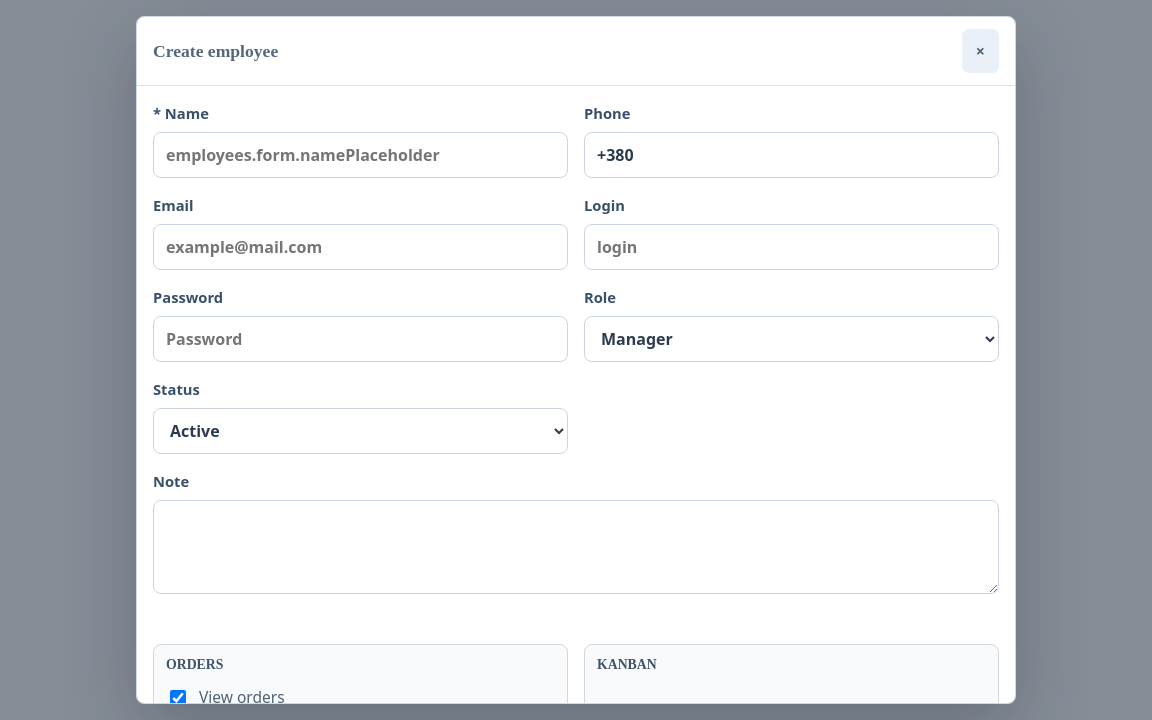
Test: EmployeeFormModal › activates orders.chat for master defaults
Select "Master" in the dropdown labelled "Role". click: (792,339)
box: [584,316,999,362]
(page scrolled)
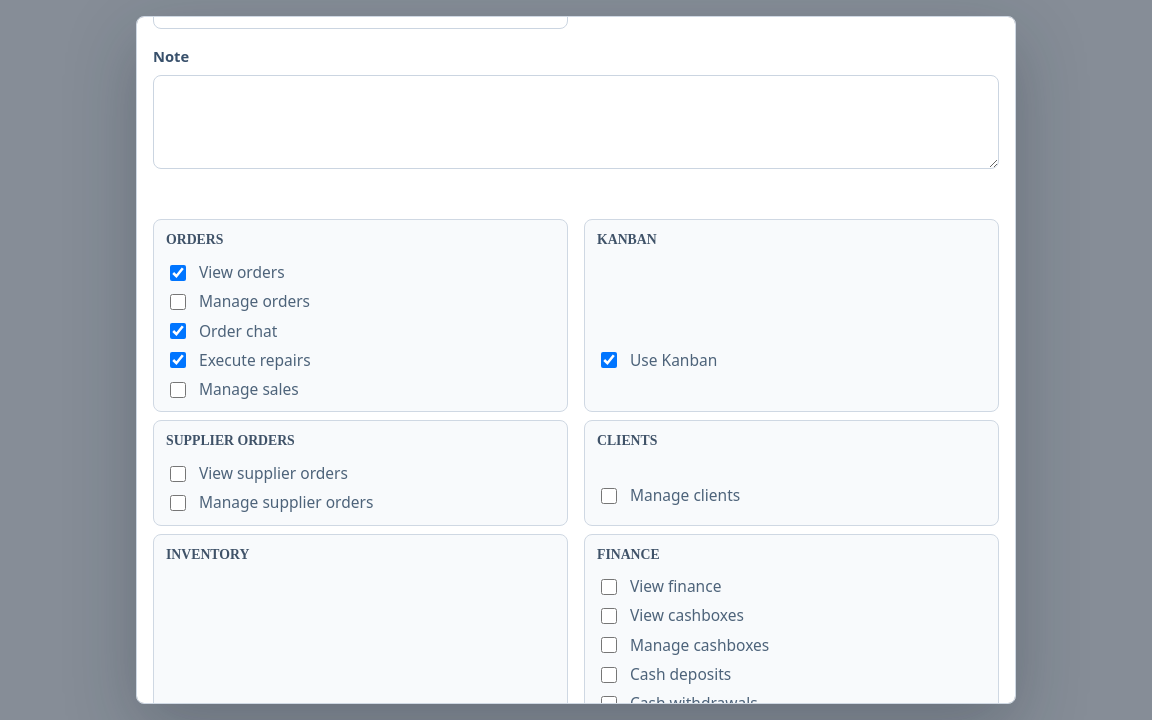
Expected: the checkbox labelled "Order chat" is checked, [170,323,186,339]
Expected: the checkbox labelled "Execute repairs" is checked, [170,352,186,368]
Expected: the checkbox labelled "Use Kanban" is checked, [601,352,617,368]
